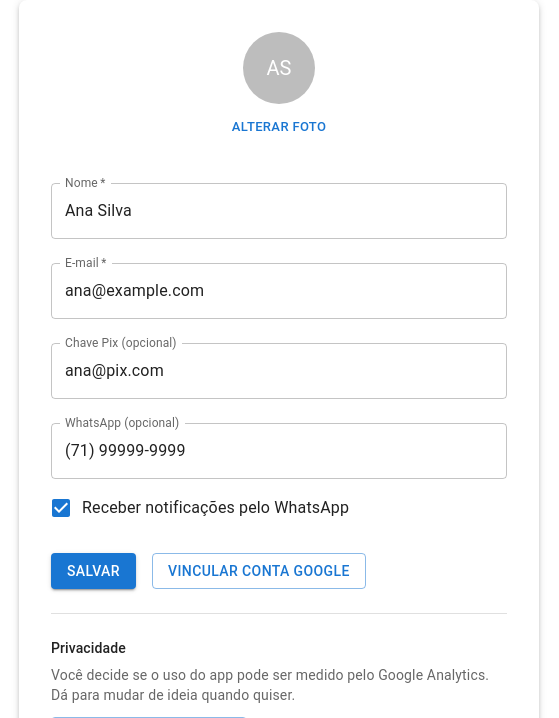
Profile › masks the WhatsApp field progressively as the user types digits
Expected: the field showing "Ana Silva" is shown, [51,183,507,239]
Type "71999998888" into the field labelled "WhatsApp (opcional)".
click(279, 451); type("71999998888")  # box [51,423,507,479]
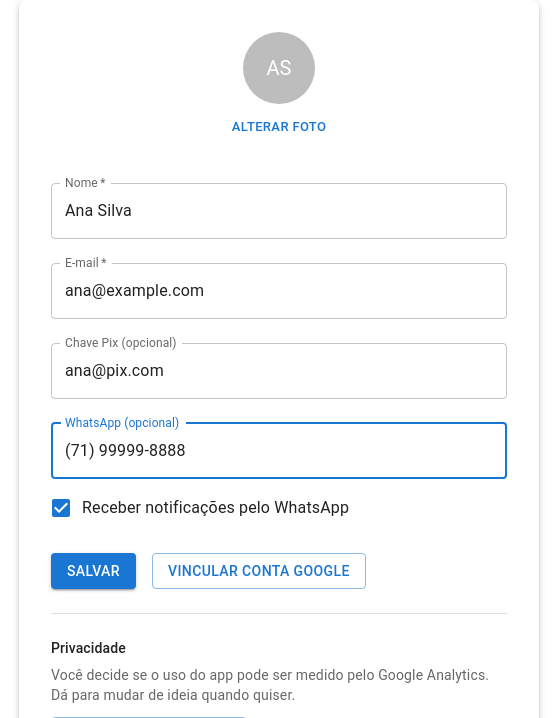
Expected: the field labelled "WhatsApp (opcional)" holds "(71) 99999-8888", [51,423,507,479]
